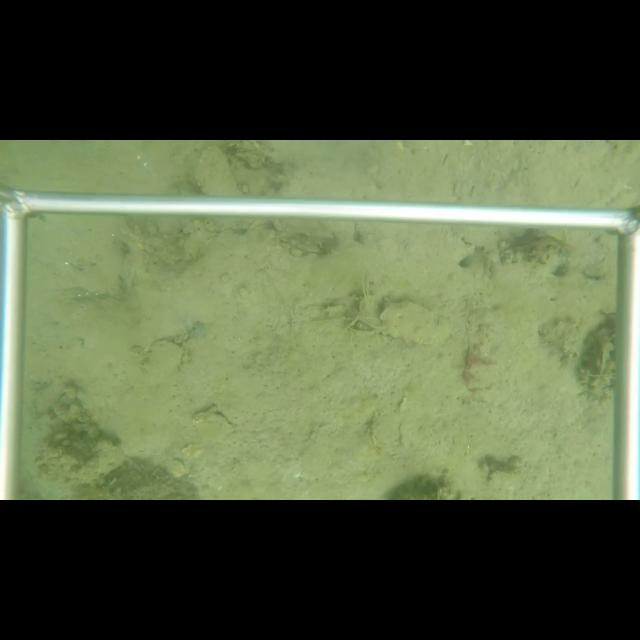Oyster-Closed: (376, 300, 456, 350), (190, 143, 253, 195), (139, 334, 187, 380), (187, 409, 237, 433)
